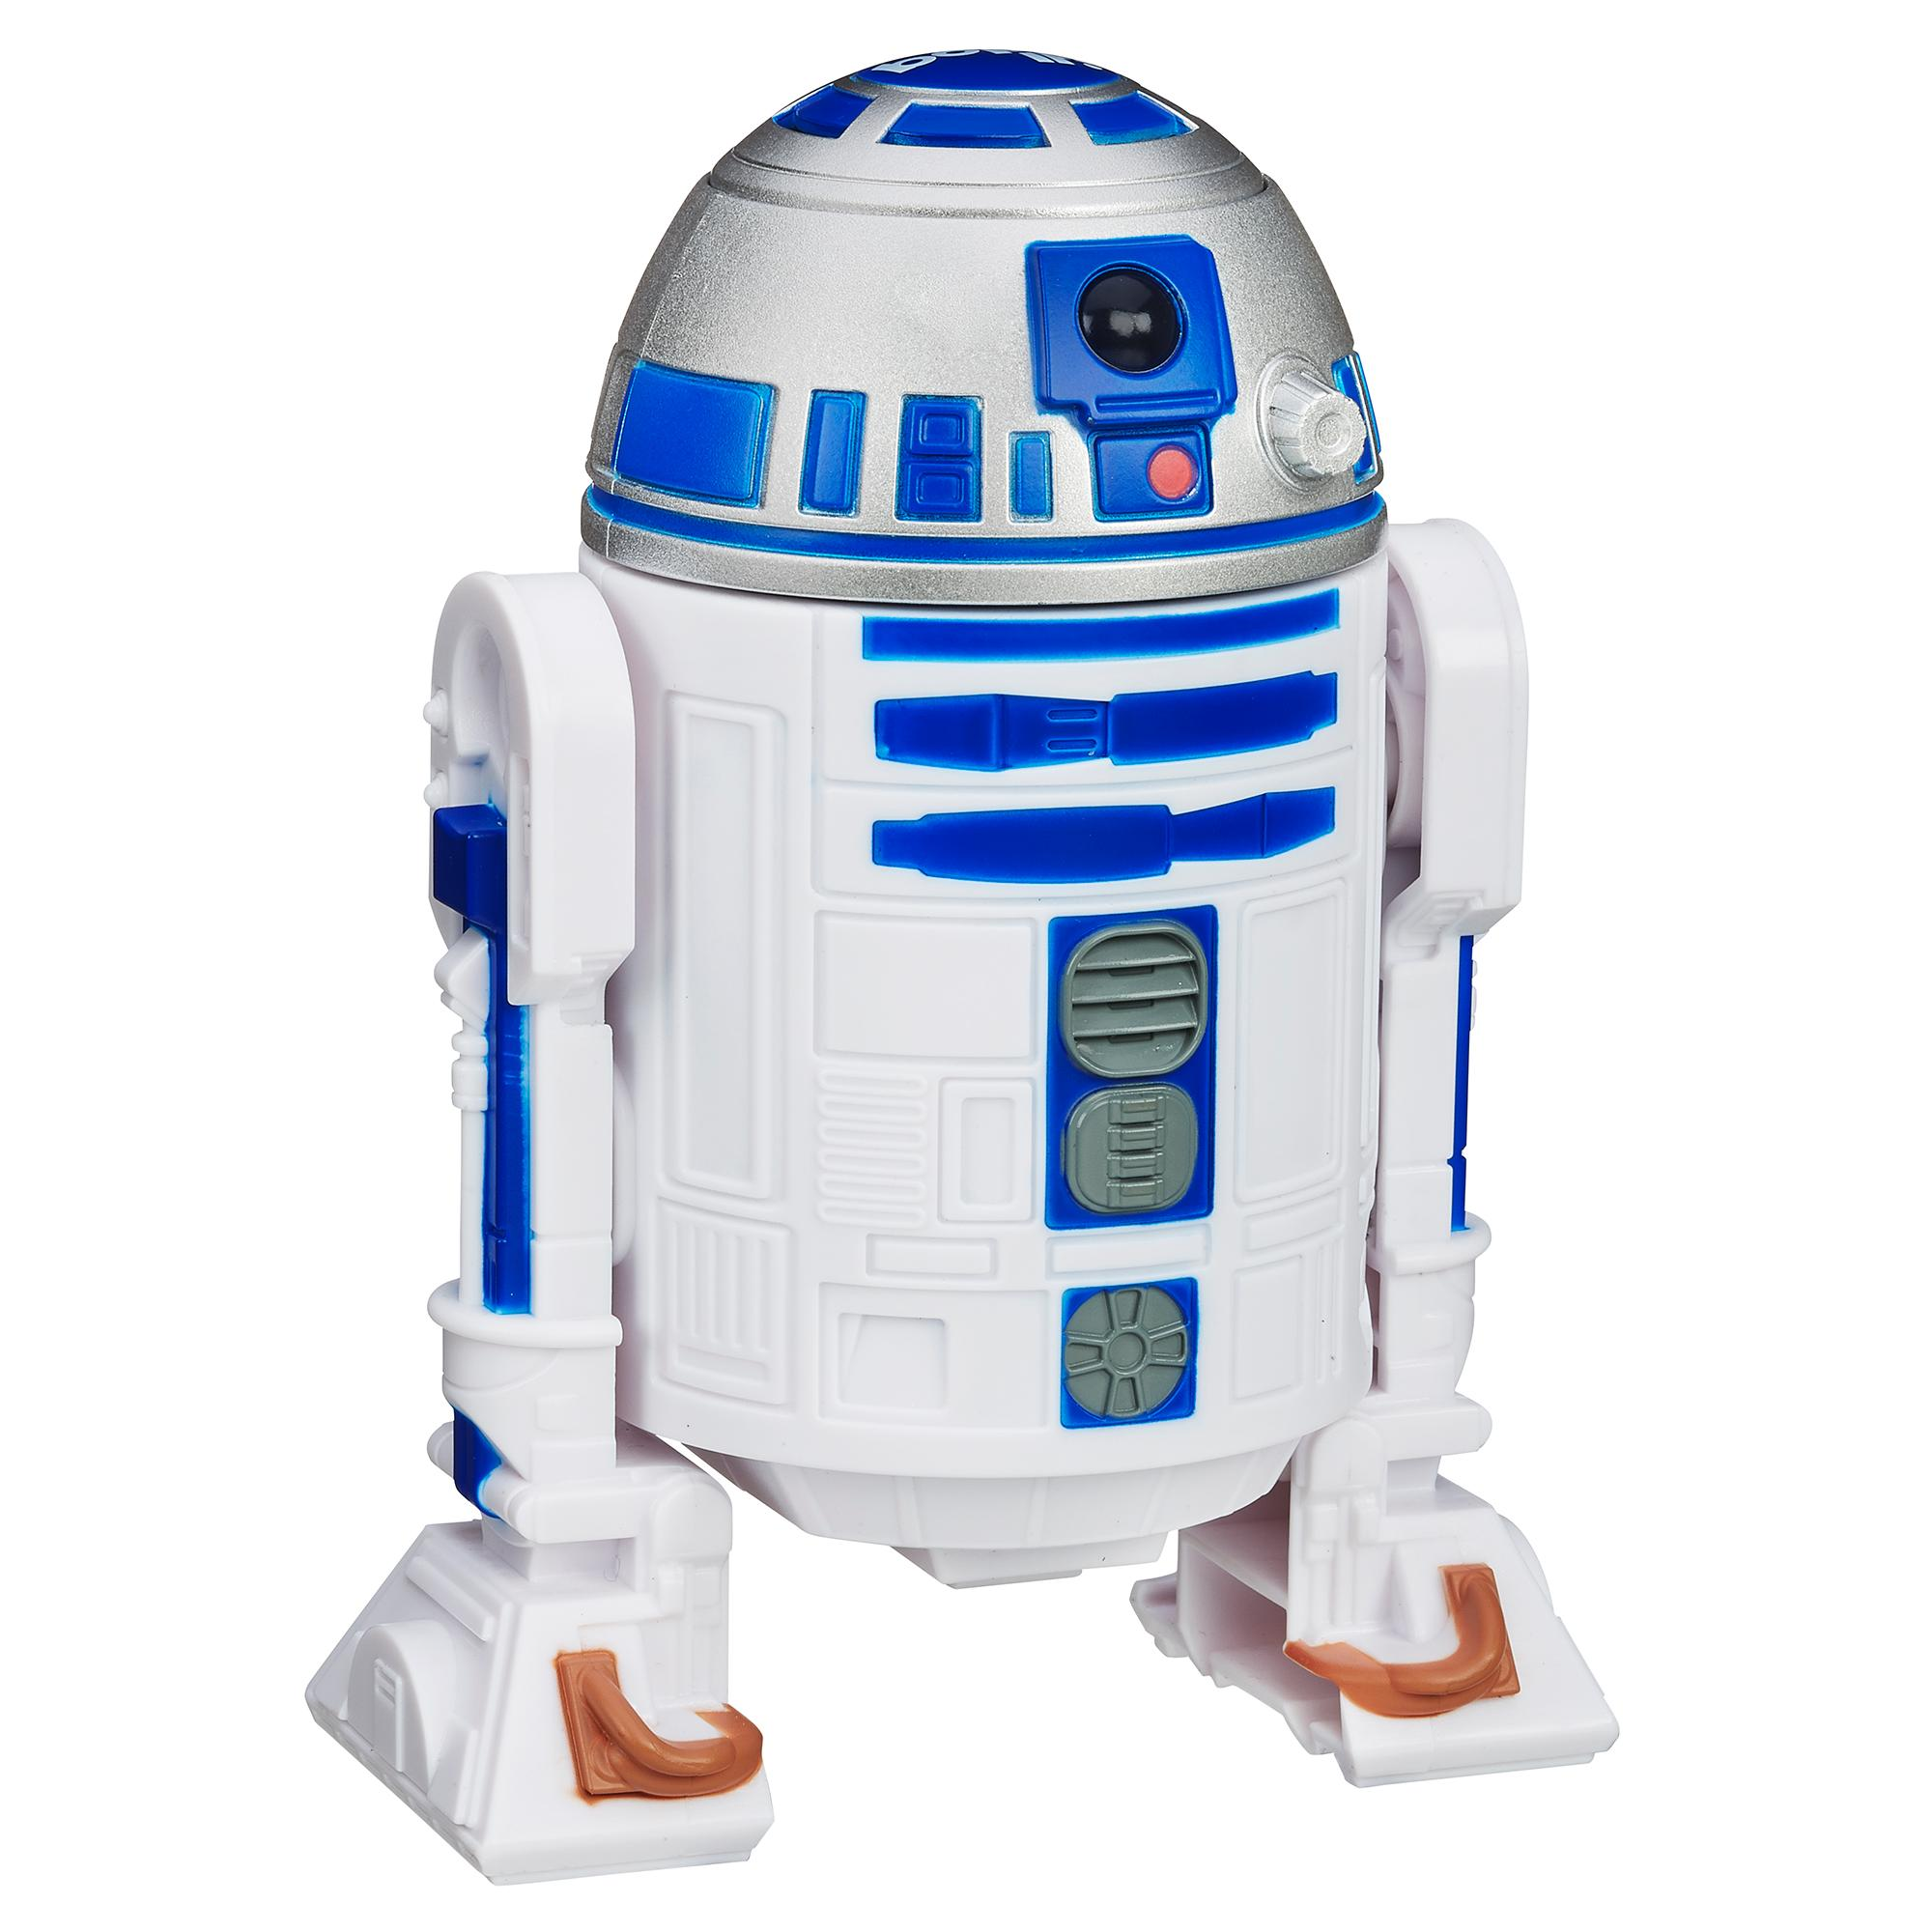r2d2: (299, 50, 1622, 1881)
